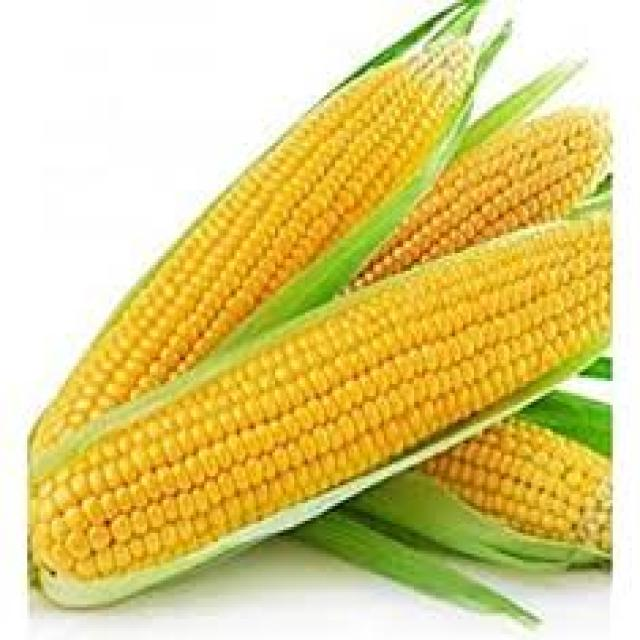Corn ear: (274, 258, 488, 511), (46, 164, 249, 428), (44, 376, 283, 589), (245, 46, 447, 268), (421, 103, 610, 241), (481, 220, 623, 401), (449, 411, 614, 560)
